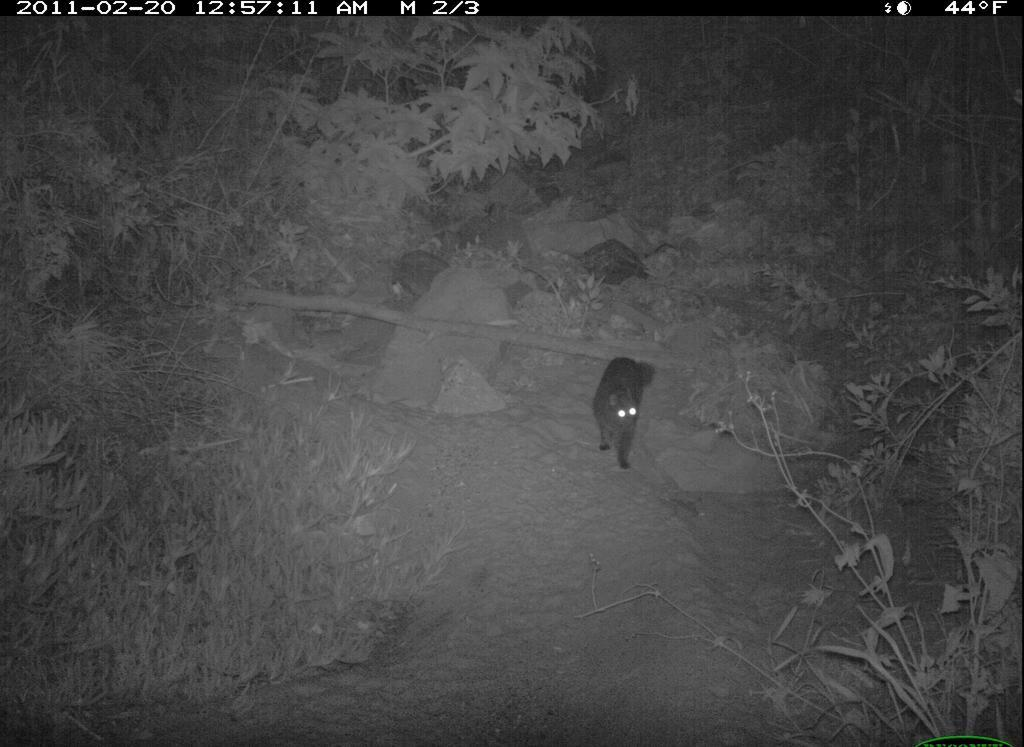cat: (580, 346, 666, 481)
